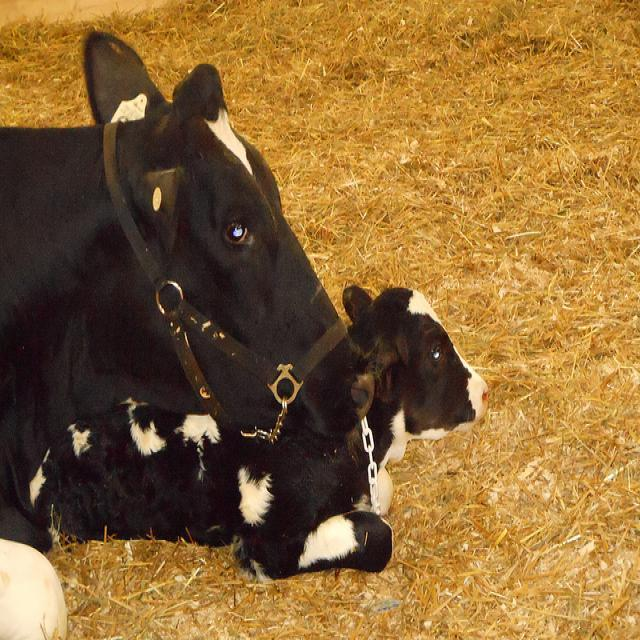cow: (0, 27, 386, 435), (0, 282, 488, 590)
